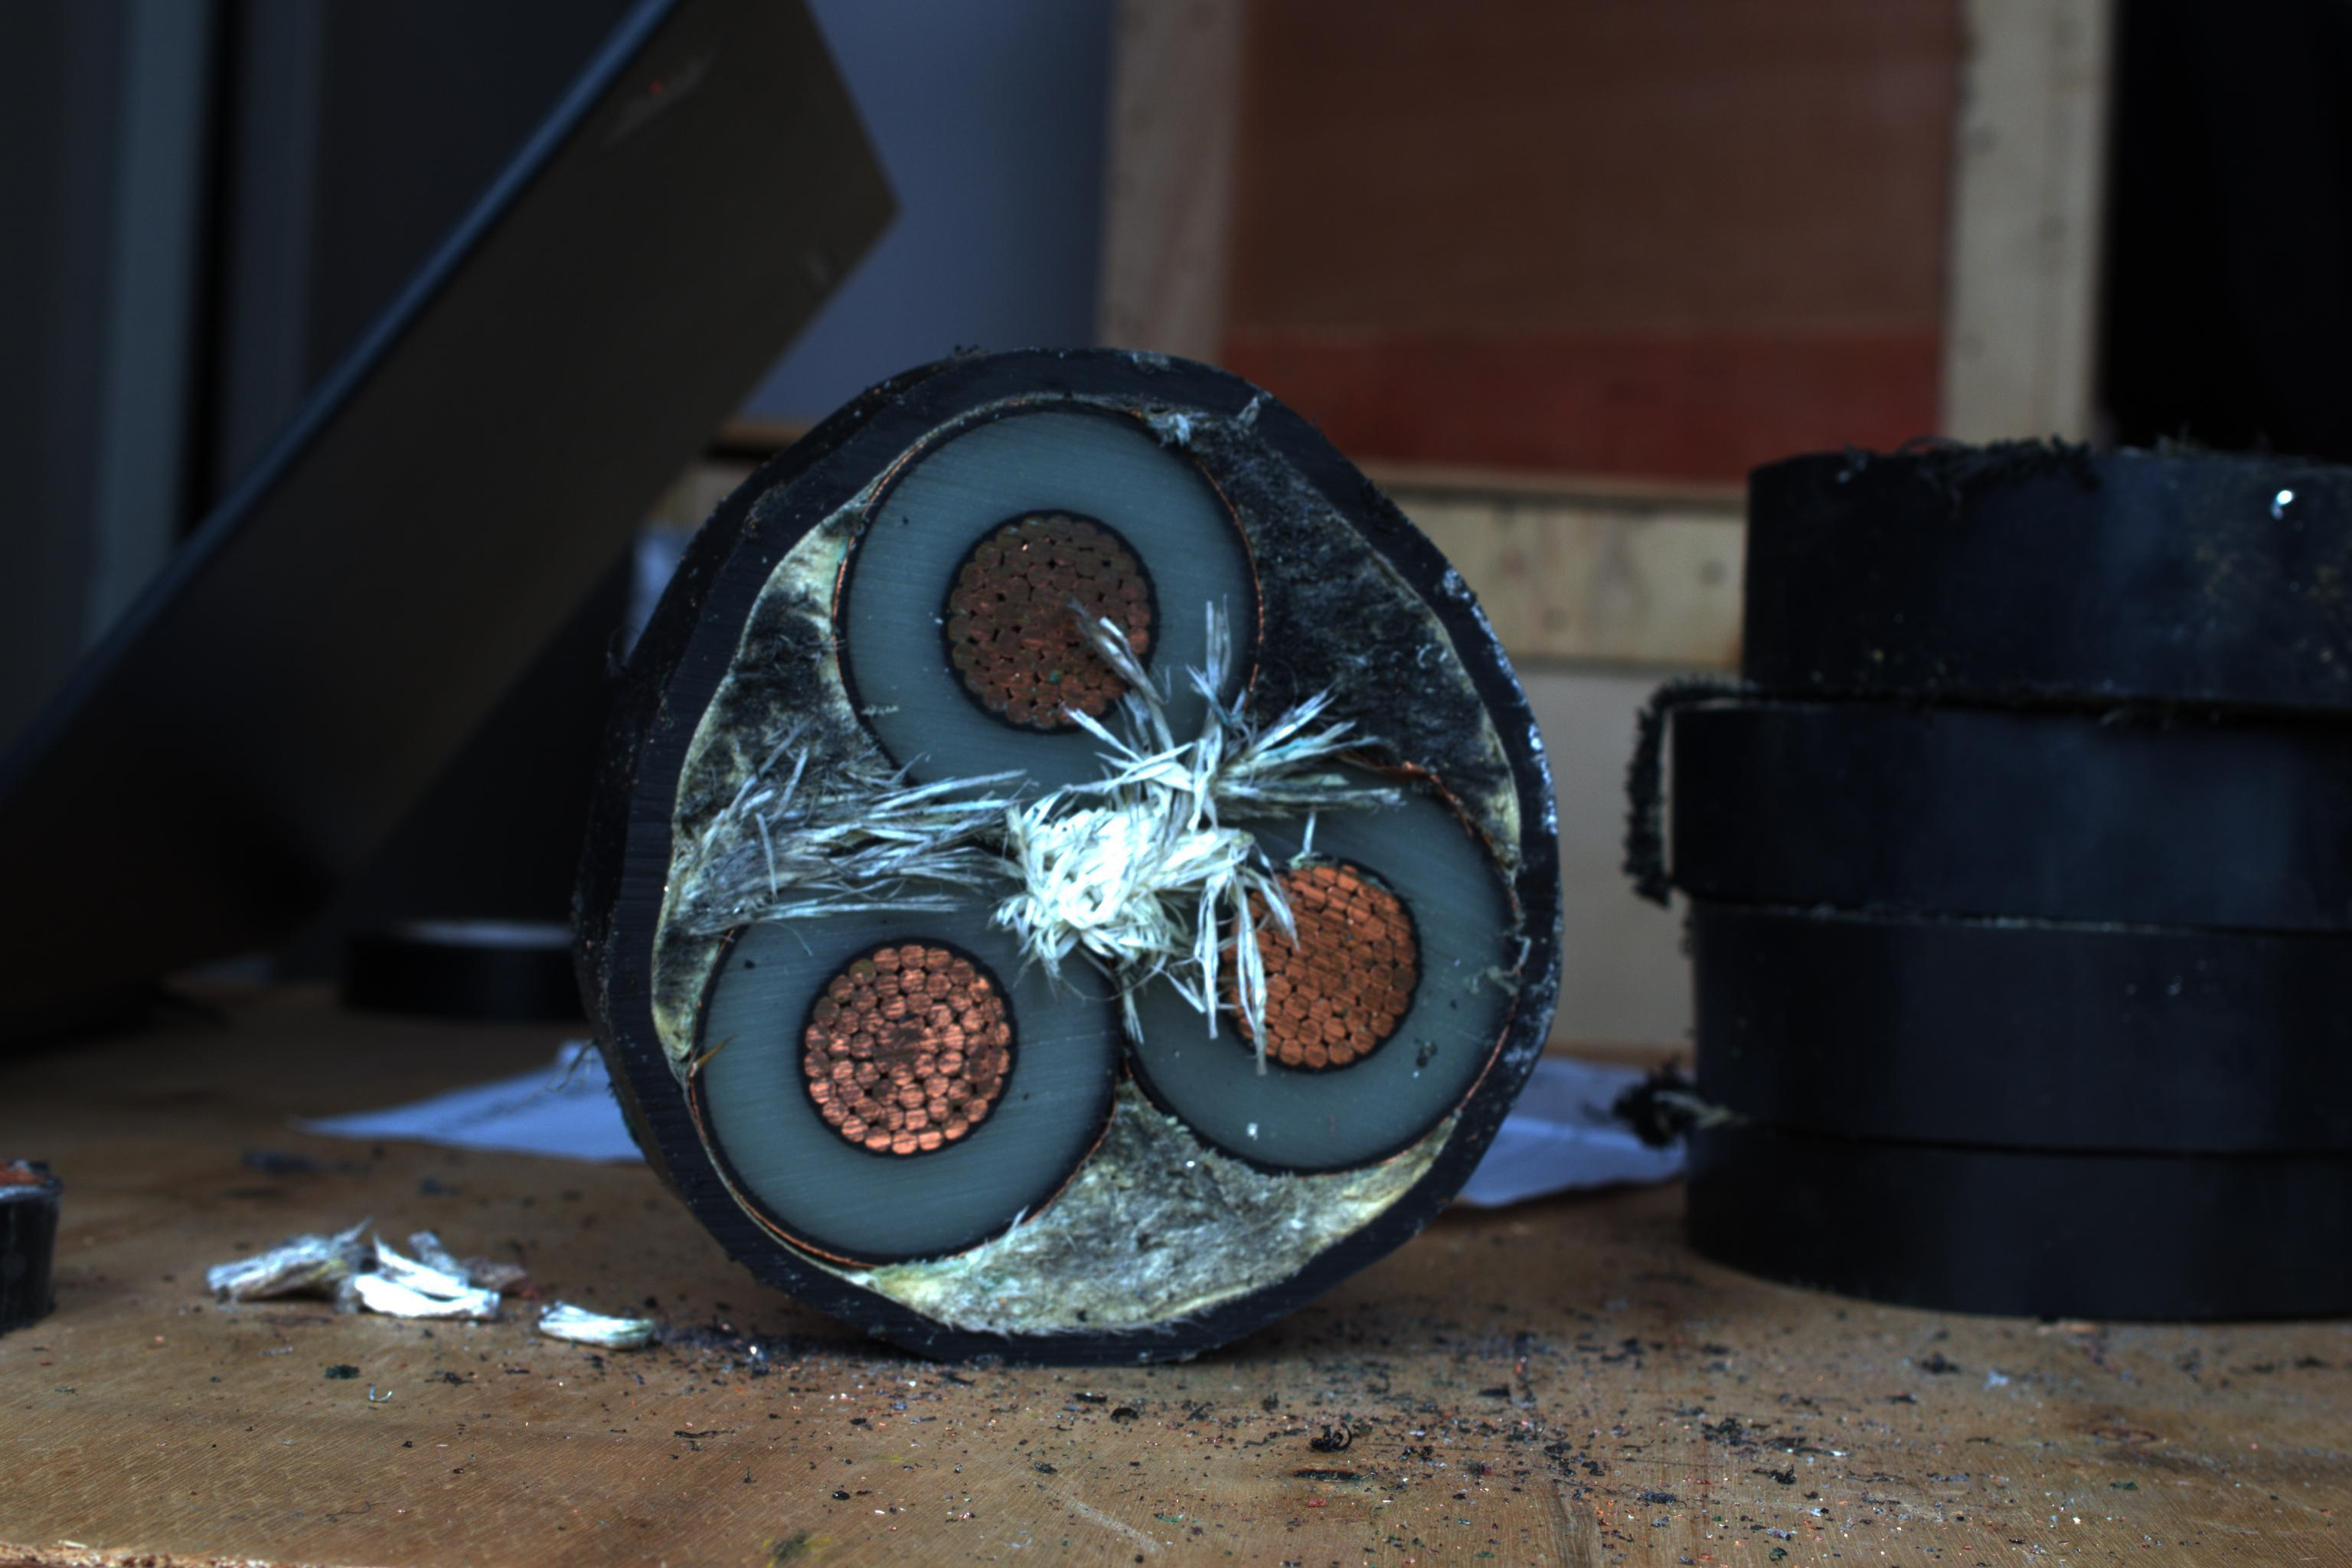ZA_YJV_26_35kV_3x400: (586, 371, 1559, 1340)
